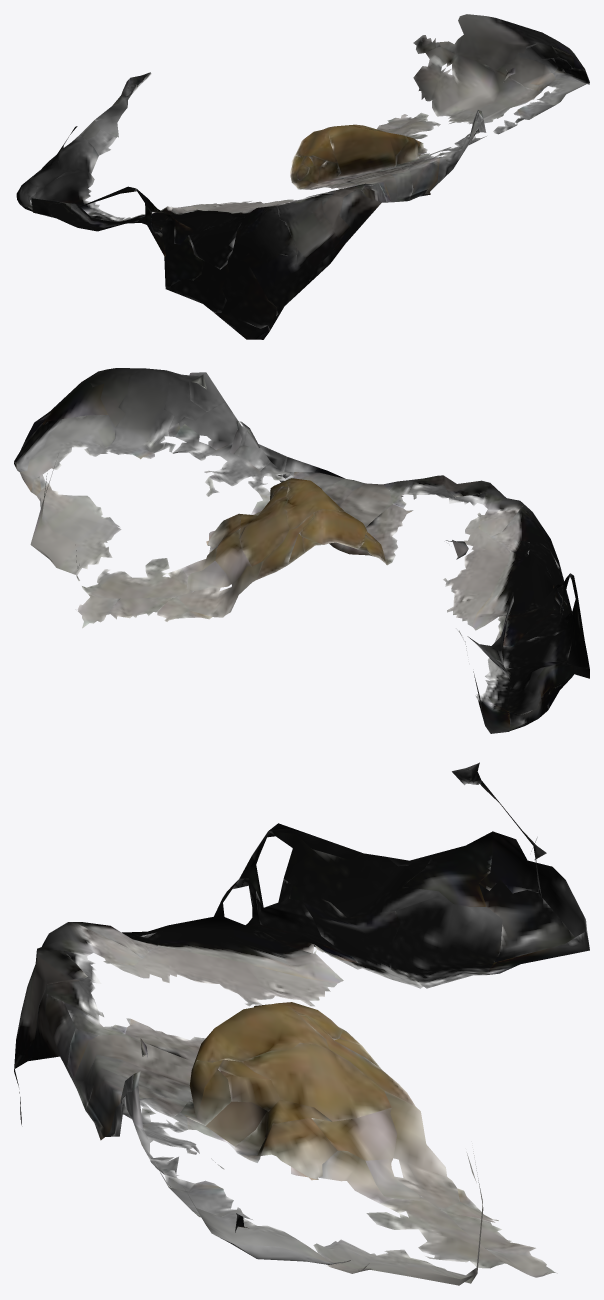
File: hall.glb
The picture shows the model from 3 angles, top to bottom: view 1: azimuth 30°, elevation 25°; view 2: azimuth 150°, elevation 25°; view 3: azimuth 270°, elevation 25°; orthographic projection. The views are drawn at different scales.
Size of the model in its own units: 1.24 by 0.4208 by 0.6273.
1 material, 1 textured.
